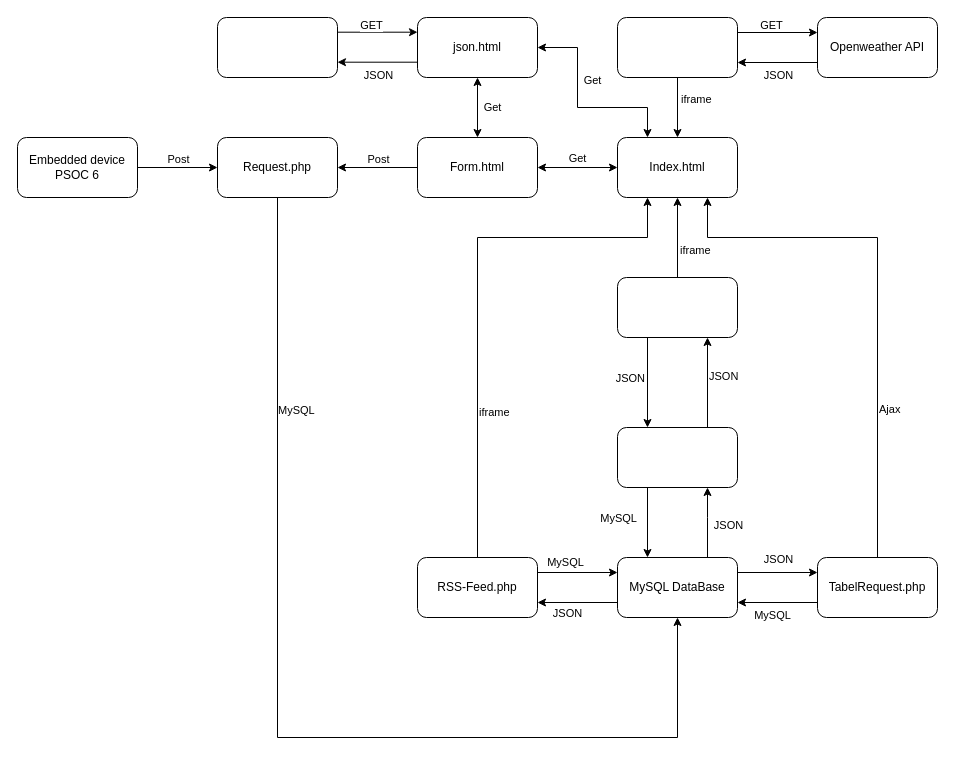
Some shapes in this 955 by 763 pixel diagram are drawn without their labels. The shapes that lost their labels are listed below. From the top down, each one's centre as x and y in pixels, then its label:
At (x=277, y=47): "Json.php".
At (x=677, y=47): "Openweather.php".
At (x=677, y=307): "Grafiek.php".
At (x=677, y=457): "CanvasJS".
